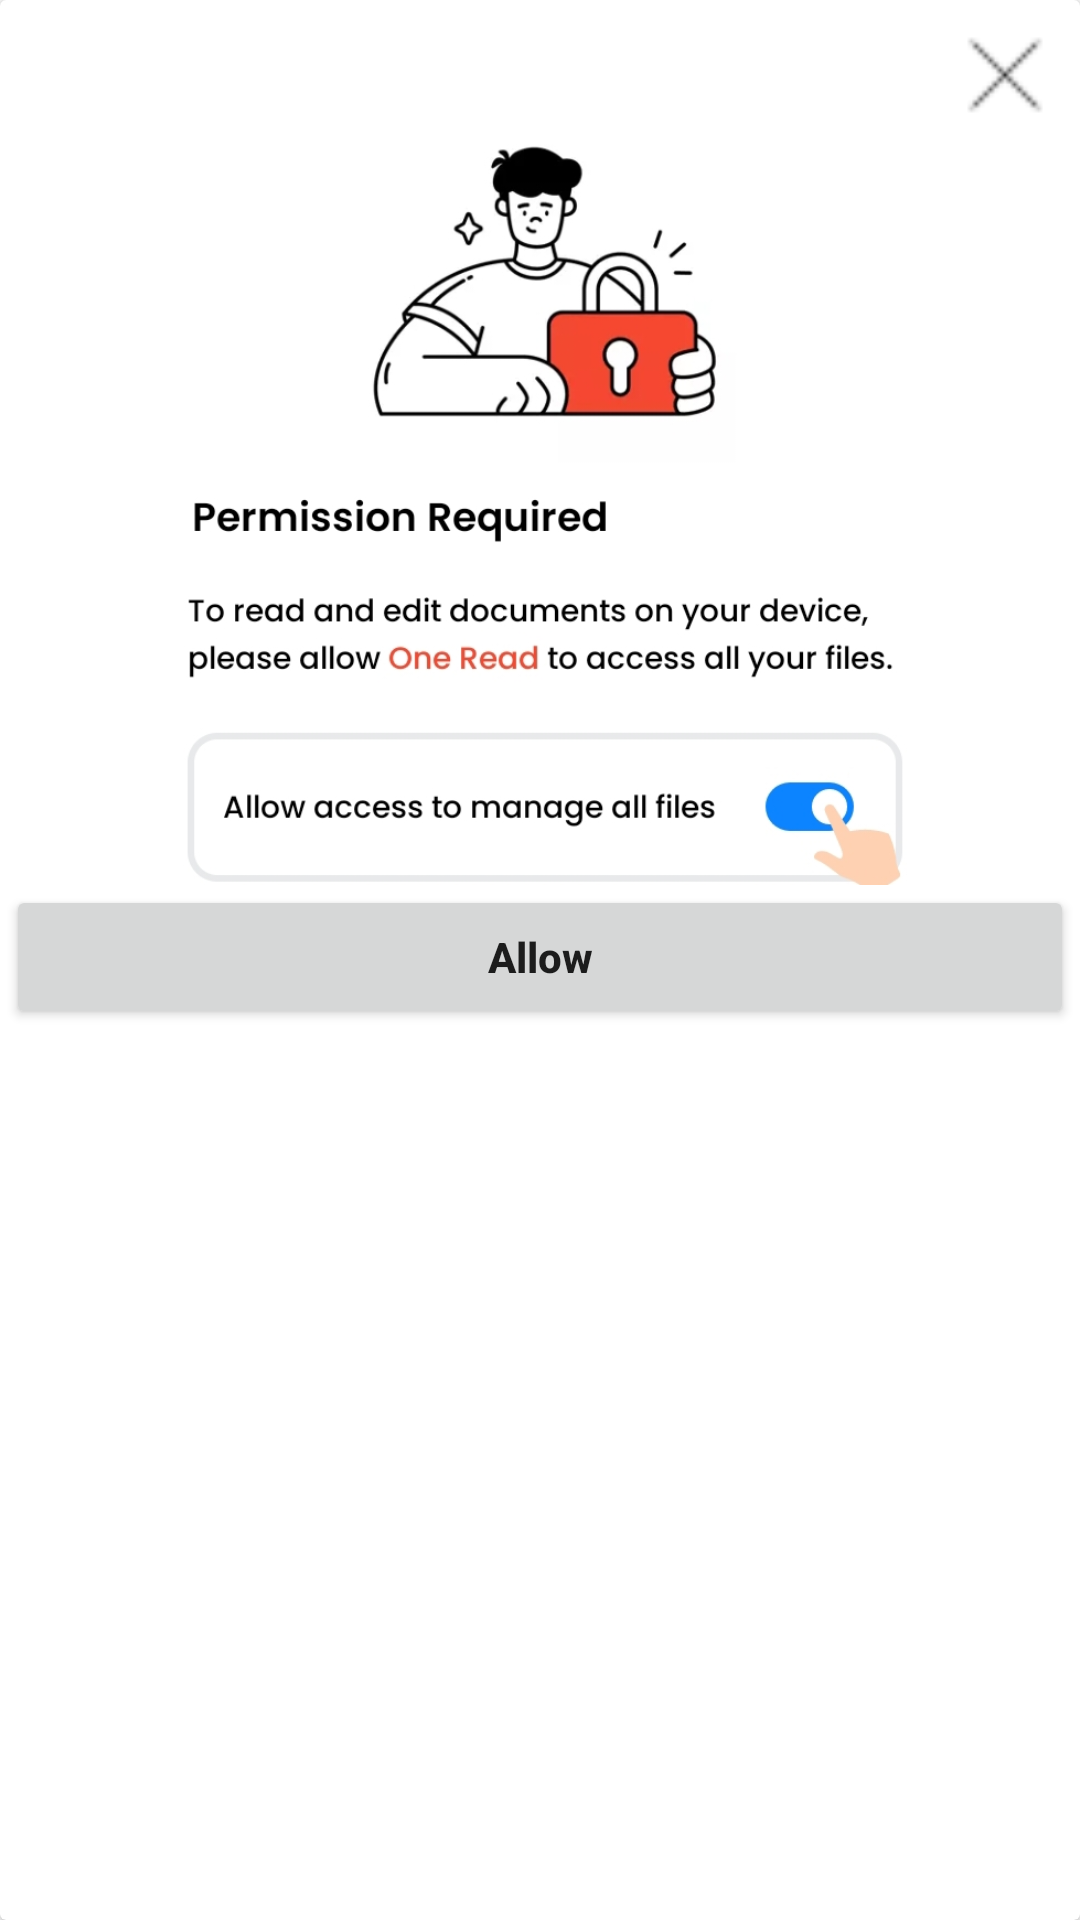

Icon bounding boxes for this 1080x1920 phone screenshot, format bbox=[x1, y1, x2, y2]:
cross: bbox=[969, 39, 1041, 111]
